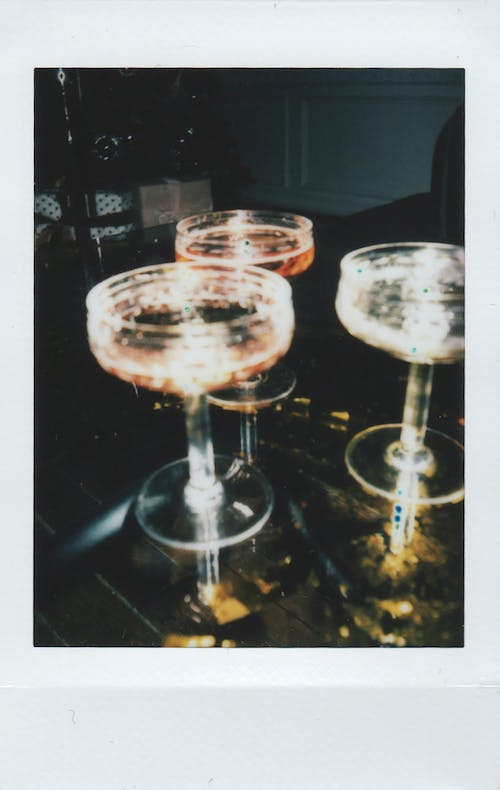alcohol: (85, 260, 297, 552), (332, 241, 464, 505), (173, 209, 316, 408)
